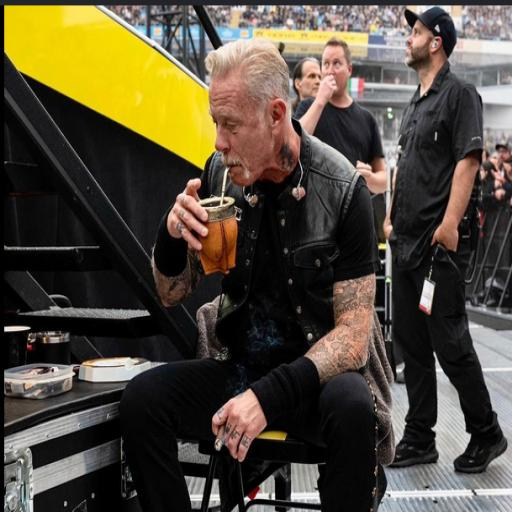mate: (188, 152, 250, 283)
